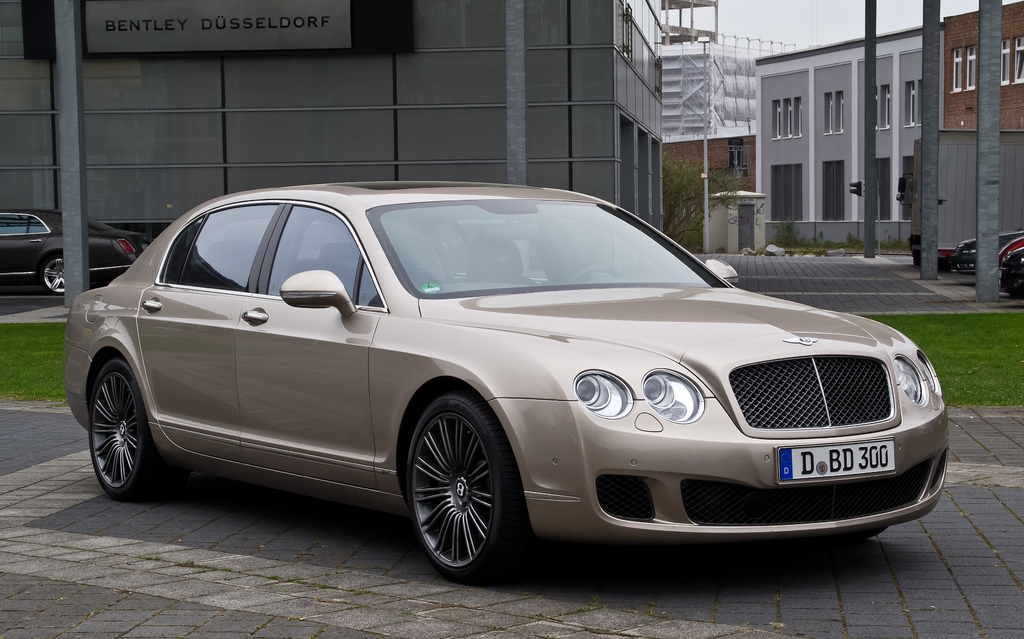cars: (62, 176, 948, 581), (0, 208, 152, 294), (996, 230, 1023, 297), (936, 242, 976, 274)
